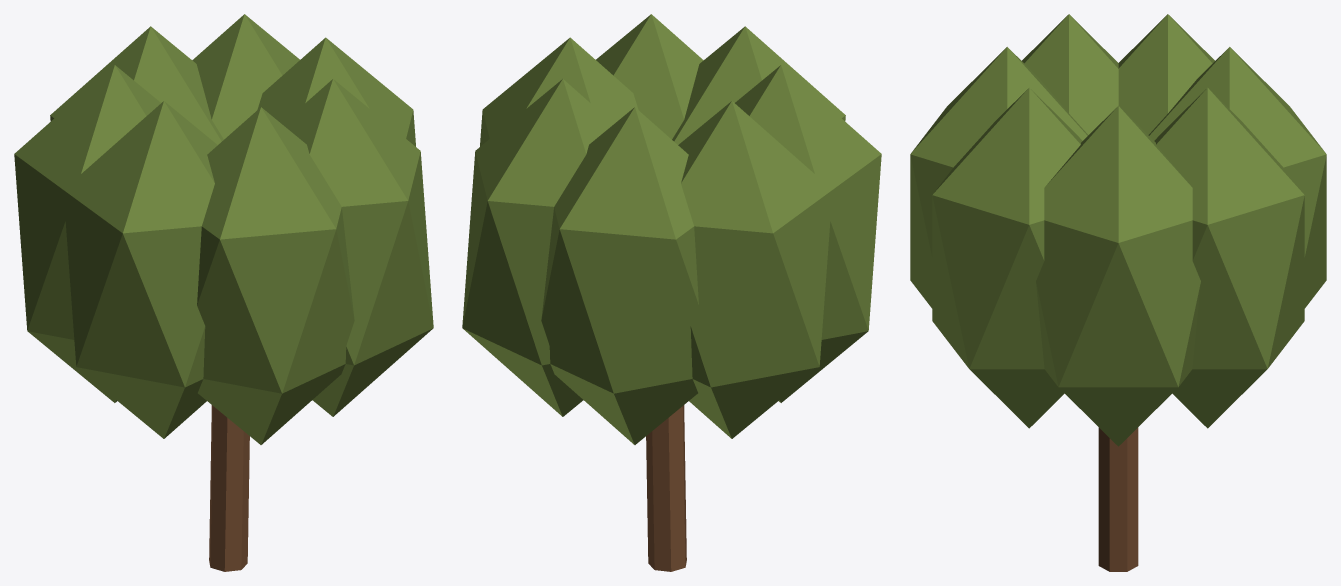
Rendered from tree_14.glb.
The picture shows the model from 3 angles, left to right: view 1: azimuth 30°, elevation 25°; view 2: azimuth 150°, elevation 25°; view 3: azimuth 270°, elevation 25°; orthographic projection.
Visible parts, largest first — view 1: tree_14; view 2: tree_14; view 3: tree_14.
Part boxes in pixels (x1,y1,x2,y2): tree_14: (14, 14, 433, 571); tree_14: (462, 14, 881, 571); tree_14: (910, 14, 1326, 571).
Bounding box in the file's own units: 4.8 × 6.37 × 4.75.
